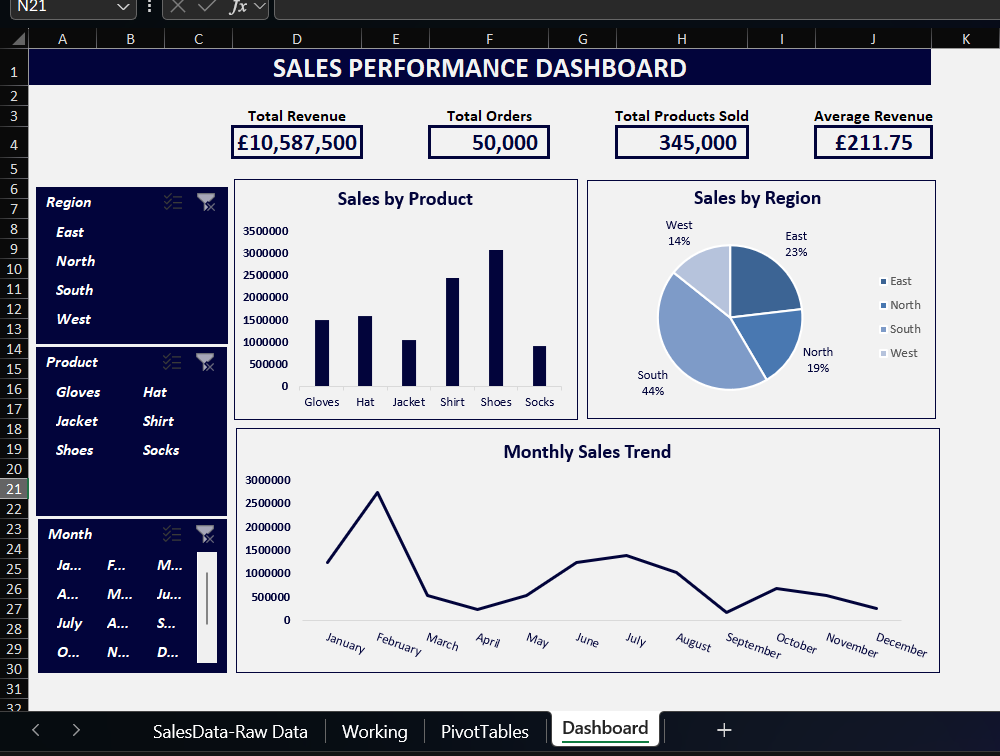

The page's visual inventory and layout, read from the dashboard file:
{"tool":"powerbi","page":{"name":"Retail Sales Performance","canvas":[1280,720],"ordinal":0},"visuals":[{"type":"cardVisual","title":"Total Revenue","fields":{"Data":["SalesData1.TotalRevenue"]},"box":[20.5,74.8,259.4,109.8],"z":0},{"type":"cardVisual","title":"Total Order","fields":{"Data":["SalesData1.TotalOrder"]},"box":[300.2,75,259.3,109.8],"z":1000},{"type":"cardVisual","title":"Total Quantity Sold","fields":{"Data":["SalesData1.TotalQuanitySold"]},"box":[580.2,75,259.3,109.8],"z":2000},{"type":"cardVisual","title":"Average Revenue","fields":{"Data":["SalesData1.AverageRevenue"]},"box":[860.2,75,259.3,109.8],"z":3000},{"type":"clusteredBarChart","title":"Revenue by Product","fields":{"Y":["SalesData1.TotalRevenue"],"Category":["SalesData1.Product"]},"box":[20,220,600,320],"z":4000},{"type":"donutChart","title":"Revenue by Region","fields":{"Category":["SalesData1.Region"],"Y":["SalesData1.TotalRevenue"]},"box":[650,220,320,320],"z":5000},{"type":"lineChart","title":"Revenue by Month","fields":{"Category":["SalesData1.Month"],"Y":["SalesData1.TotalRevenue"]},"box":[20.5,539.3,949.5,181],"z":6000},{"type":"slicer","fields":{"Values":["SalesData1.Region"]},"box":[1019.4,219.6,220.8,79.6],"z":7000},{"type":"slicer","fields":{"Values":["SalesData1.Product"]},"box":[1019.4,299.2,220.8,80.8],"z":8000},{"type":"slicer","fields":{"Values":["SalesData1.Month"]},"box":[1019.4,396.9,220.8,89.3],"z":9000},{"type":"textbox","box":[323.3,0,627.3,74.8],"z":10000}]}

Visuals, with their boxes on the page's 1280x720 design canvas (x1, y1, x2, y2). These are canvas units, not pixel positions in the 1000x756 screenshot, which may show the page scaled, cropped or inside an application window:
"Total Revenue" cardVisual: [left=20, top=75, right=280, bottom=185]
"Total Order" cardVisual: [left=300, top=75, right=560, bottom=185]
"Total Quantity Sold" cardVisual: [left=580, top=75, right=840, bottom=185]
"Average Revenue" cardVisual: [left=860, top=75, right=1120, bottom=185]
"Revenue by Product" clusteredBarChart: [left=20, top=220, right=620, bottom=540]
"Revenue by Region" donutChart: [left=650, top=220, right=970, bottom=540]
"Revenue by Month" lineChart: [left=20, top=539, right=970, bottom=720]
slicer - SalesData1.Region: [left=1019, top=220, right=1240, bottom=299]
slicer - SalesData1.Product: [left=1019, top=299, right=1240, bottom=380]
slicer - SalesData1.Month: [left=1019, top=397, right=1240, bottom=486]
textbox: [left=323, top=0, right=951, bottom=75]
